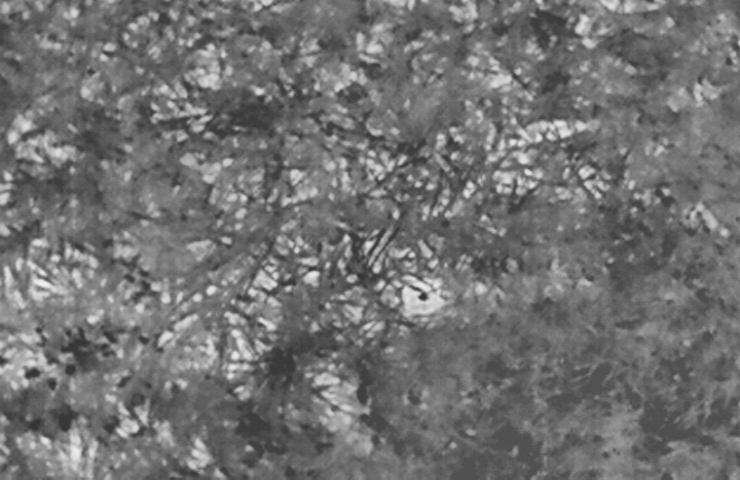landmines: (402, 277, 447, 321)
